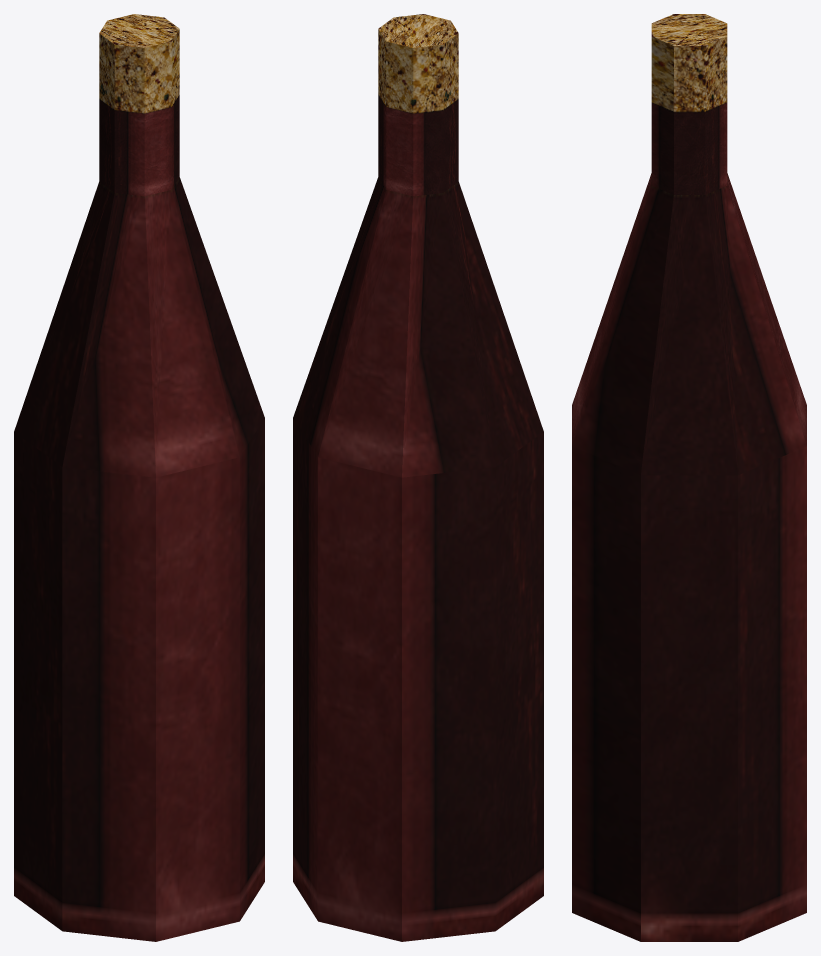
The model's file is mm9_deco_winebottle02.glb.
3 views of the same model, side by side, from view 1: azimuth 30°, elevation 25°; view 2: azimuth 150°, elevation 25°; view 3: azimuth 270°, elevation 25° (orthographic).
Parts seen in each view (by area): view 1: Winebottle02; view 2: Winebottle02; view 3: Winebottle02.
Part boxes in pixels (x1=…): Winebottle02: x1=14, y1=14, x2=264, y2=941; Winebottle02: x1=293, y1=14, x2=543, y2=941; Winebottle02: x1=572, y1=14, x2=806, y2=941.
Bounding box in the file's own units: 0.1306 × 0.5289 × 0.1306.
Materials: 1 (1 with a texture image).
